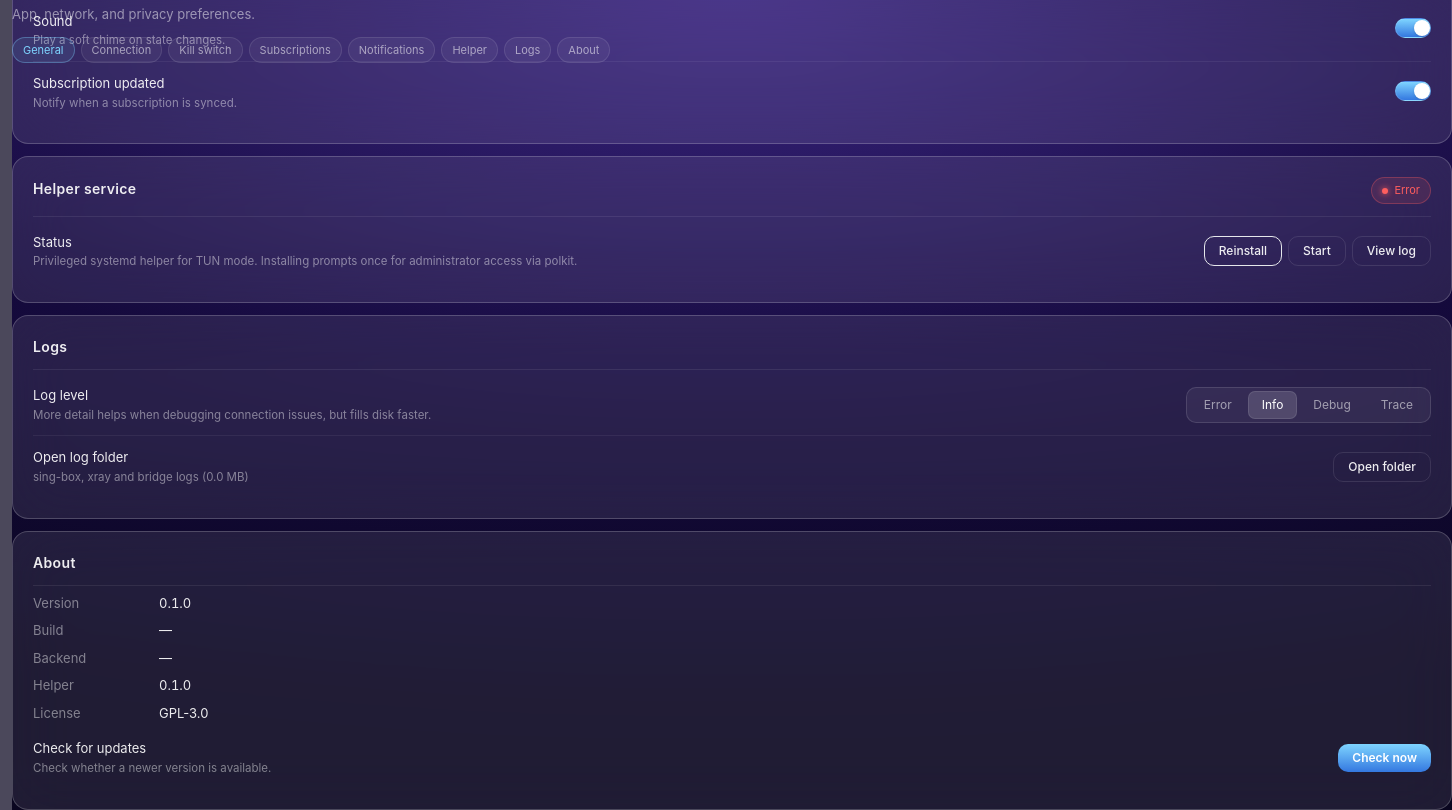
Scenario: Settings — Update check › checkNow -> error shows an error hint instead of throwing
(page scrolled)
Click the button "Check now" at {"x": 1385, "y": 758}, box [1338,744,1431,772]
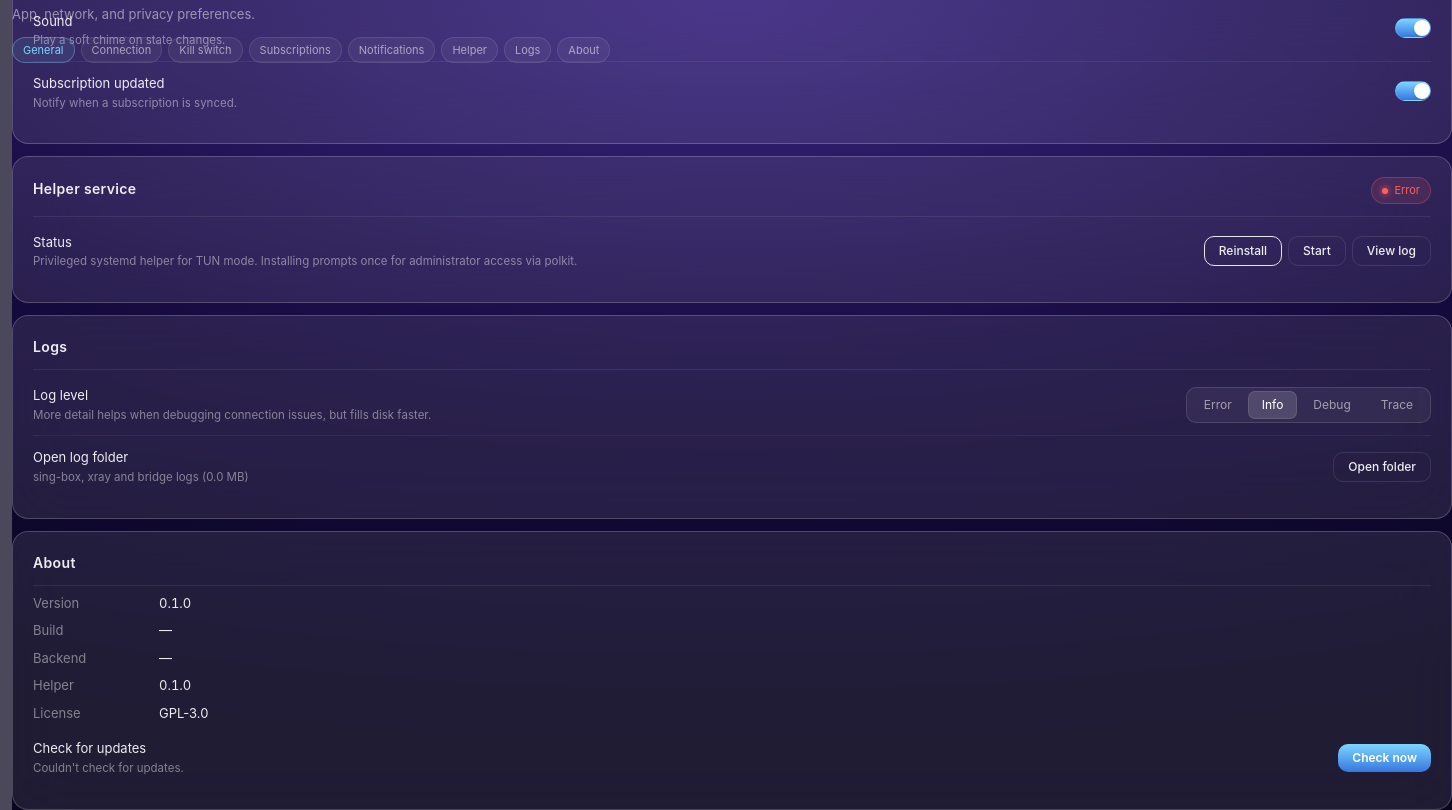
Result: the text "Couldn't check for updates." is shown at [33,761,184,777]
